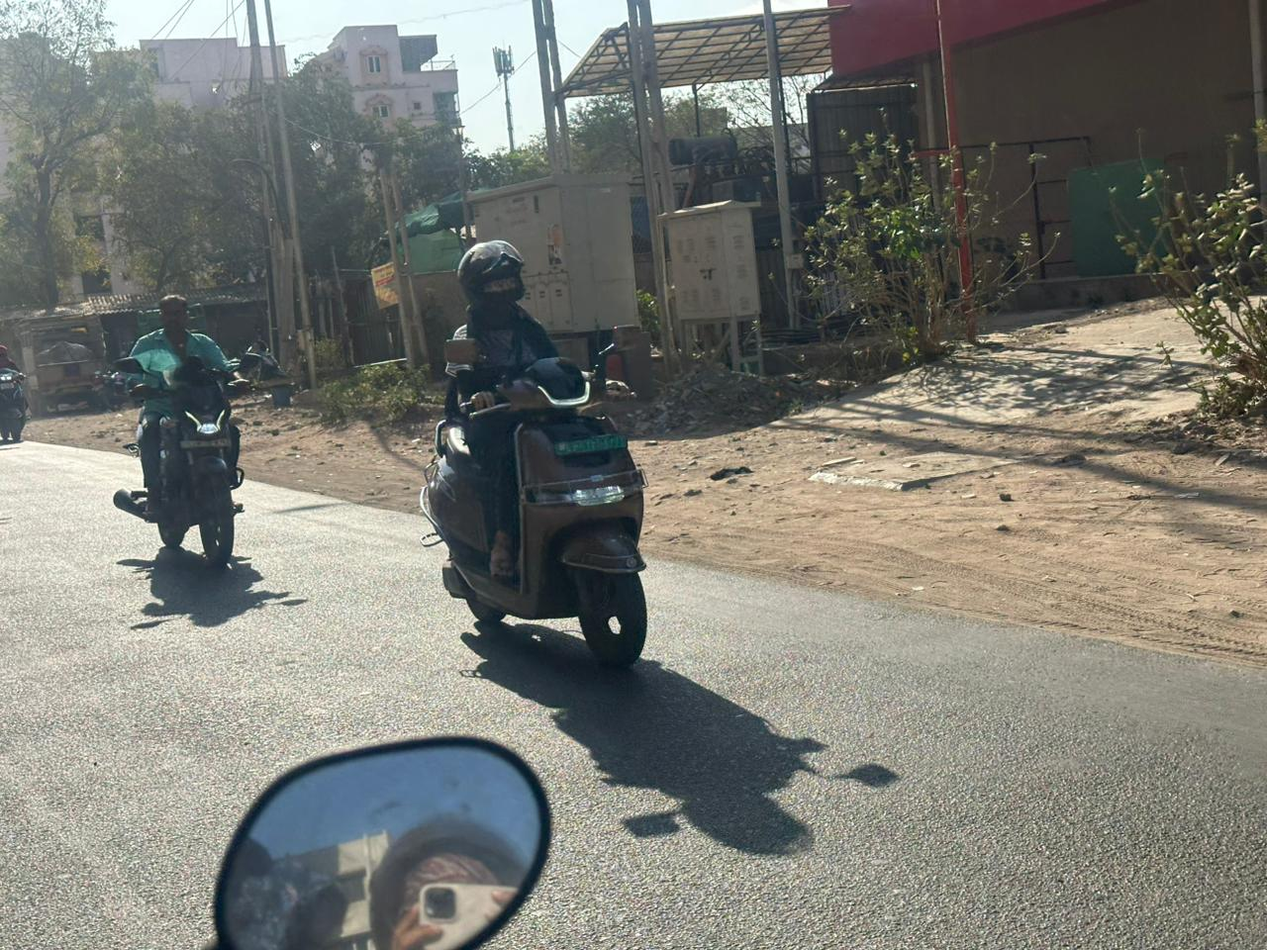BikeWithRider: (391, 205, 707, 701)
Helmet: (448, 239, 537, 325)
